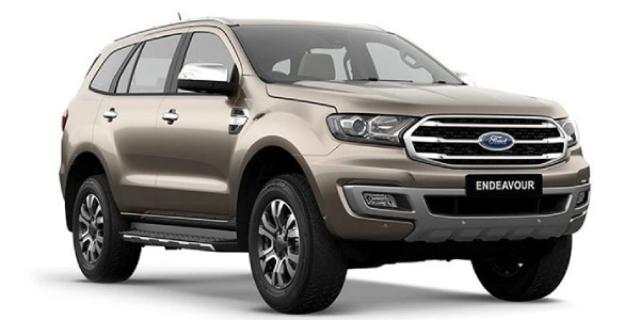ford: (59, 12, 591, 314)
